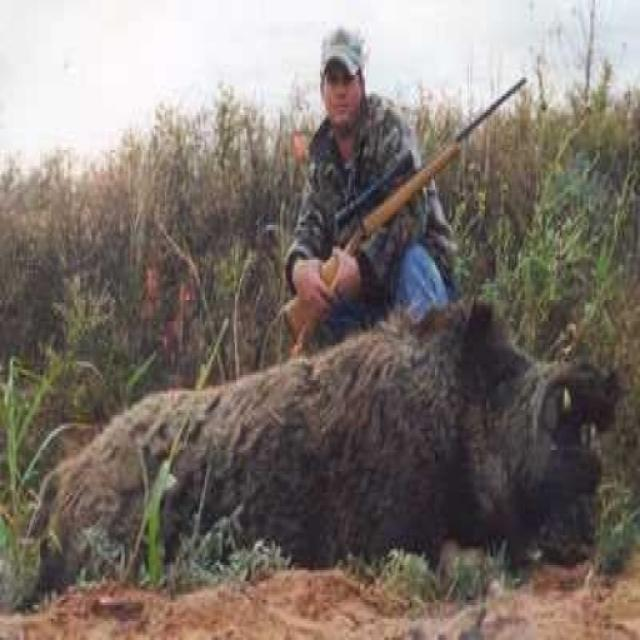pig: (29, 322, 622, 630)
